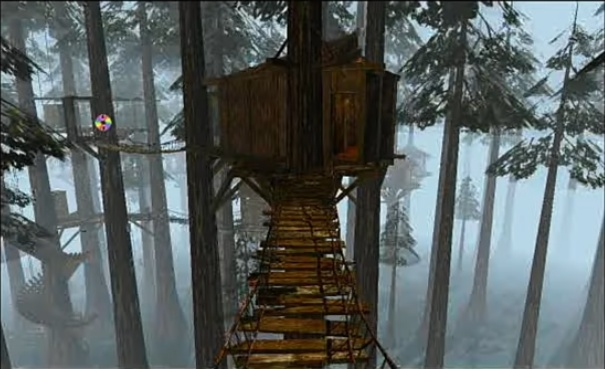Waiting: (91, 110, 114, 133)
